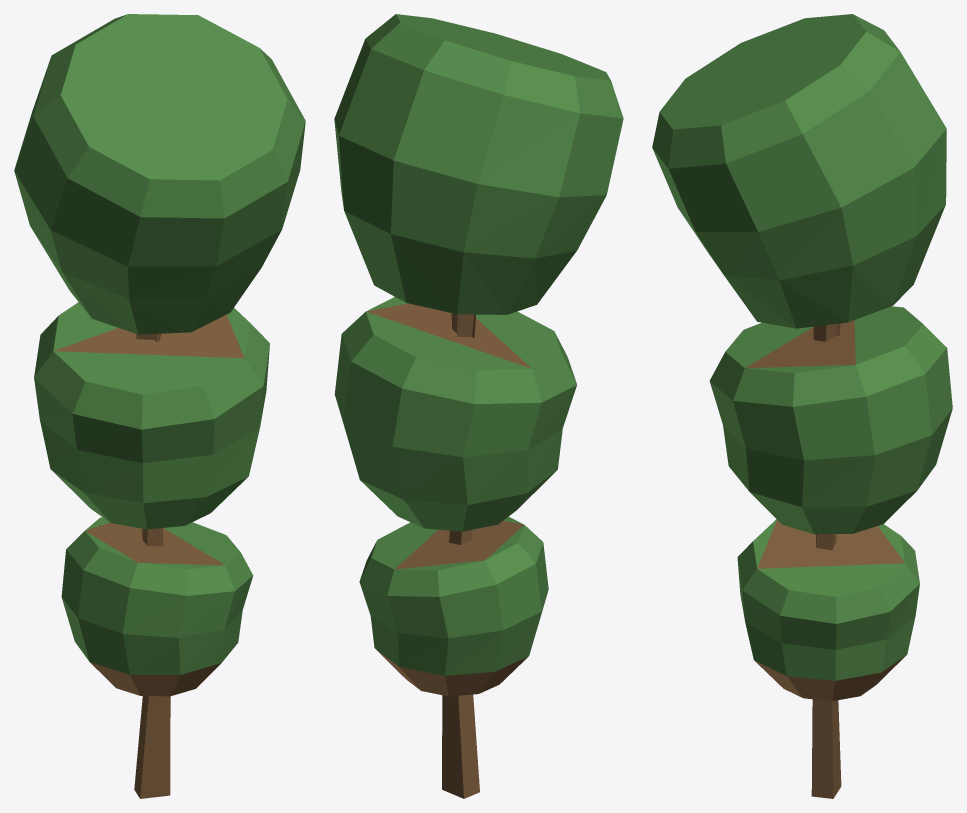
Rendered from tree3d-015.glb.
The picture shows the model from 3 angles, left to right: view 1: azimuth 30°, elevation 25°; view 2: azimuth 150°, elevation 25°; view 3: azimuth 270°, elevation 25°; orthographic projection.
Visible parts, largest first — view 1: tree3d-015; view 2: tree3d-015; view 3: tree3d-015.
Boxes of the visible parts, box(x1,y1,x2,y2) form: tree3d-015: box(14, 14, 305, 798); tree3d-015: box(334, 14, 623, 798); tree3d-015: box(652, 14, 952, 798).
Bounding box in the file's own units: 0.3319 × 1 × 0.3596.
